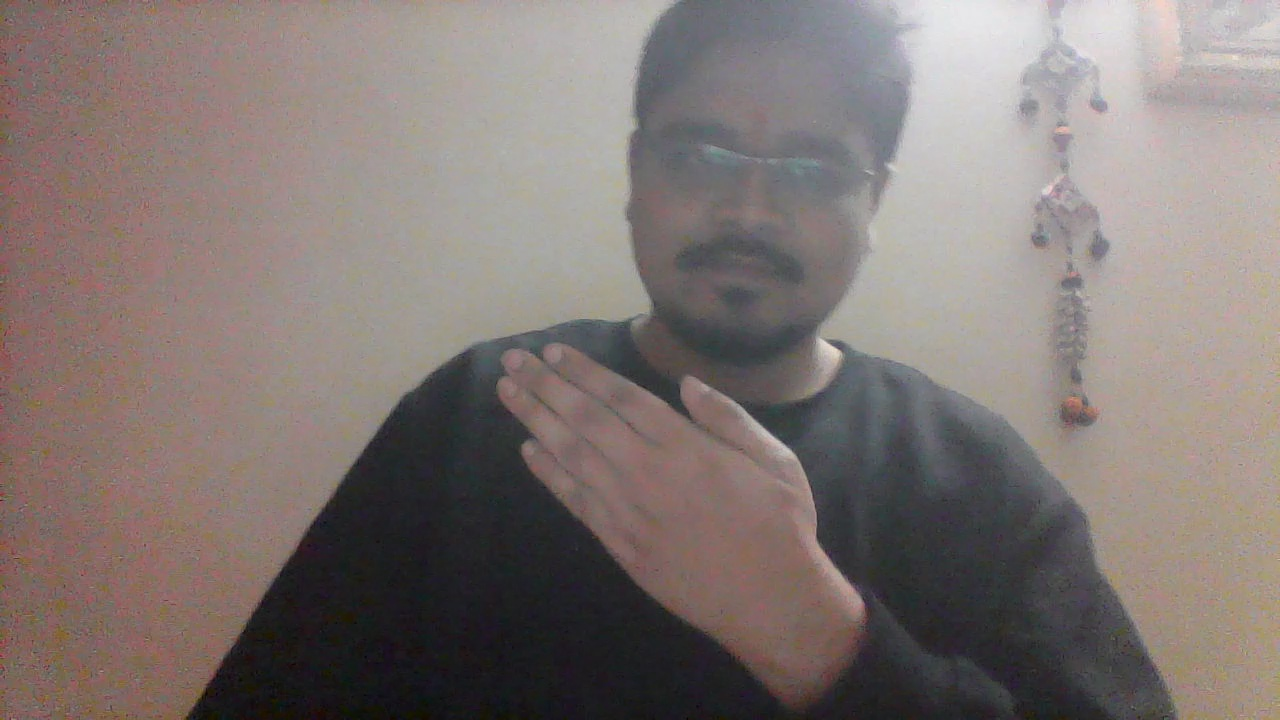Please: (491, 334, 832, 672)
